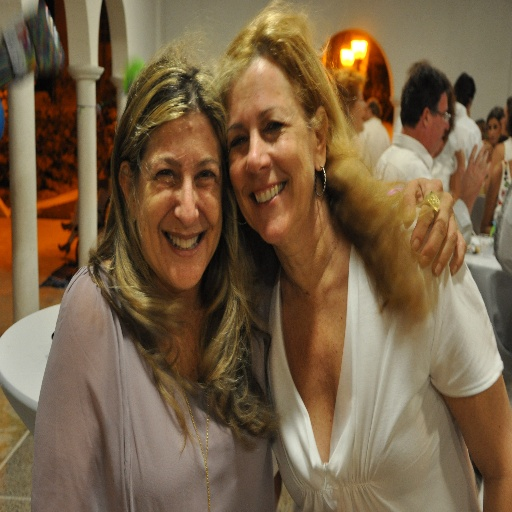hand: (405, 182, 478, 288), (455, 141, 491, 208), (454, 151, 467, 193)
